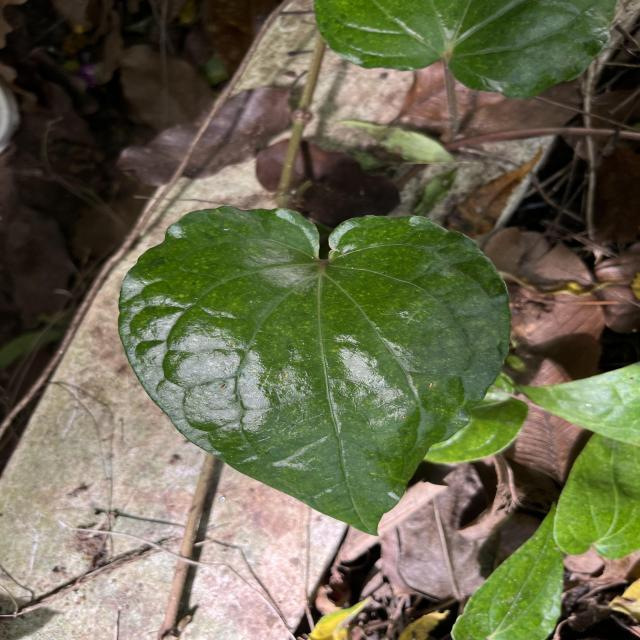Piper betle: (112, 198, 516, 540)
